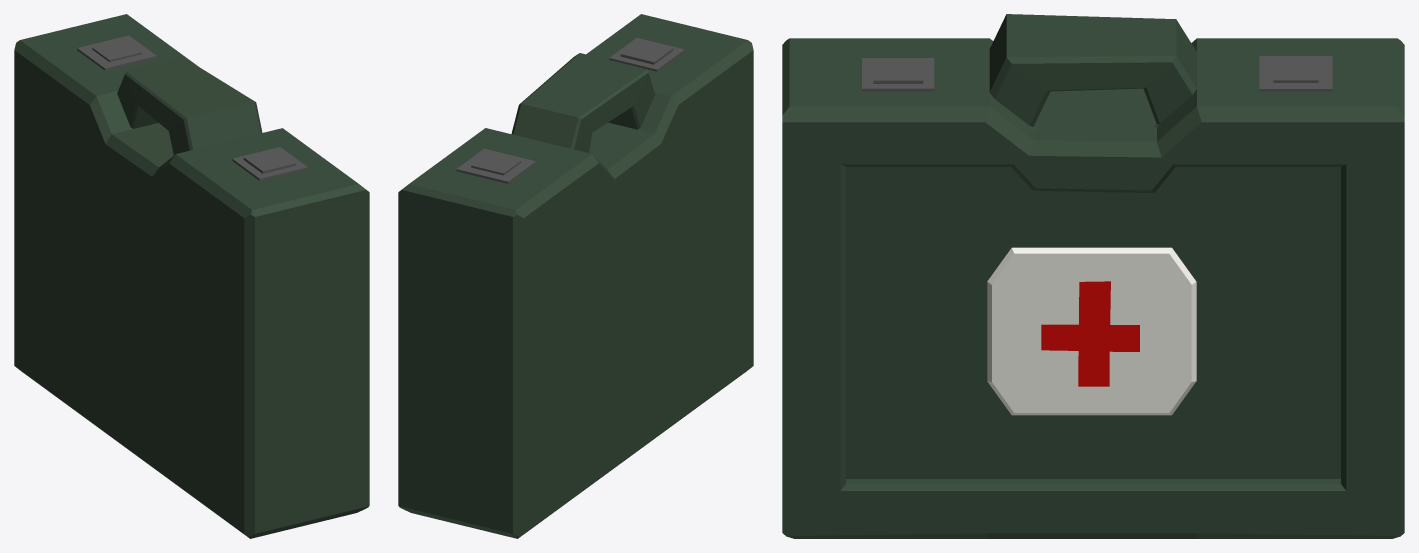
Rendered from Item_Medkit.fbx.
3 renders of one model, left to right at view 1: azimuth 30°, elevation 25°; view 2: azimuth 150°, elevation 25°; view 3: azimuth 270°, elevation 25°, orthographic. The views are drawn at different scales.
Visible parts, largest first — view 1: Cube; view 2: Cube; view 3: Cube, Cube.001.
Boxes of the visible parts, box(x1,y1,x2,y2) form: Cube: box(14, 14, 369, 538); Cube: box(398, 14, 753, 538); Cube: box(782, 14, 1404, 538); Cube.001: box(1041, 281, 1139, 386).
Size of the model in its own units: 68.01 by 191 by 231.
